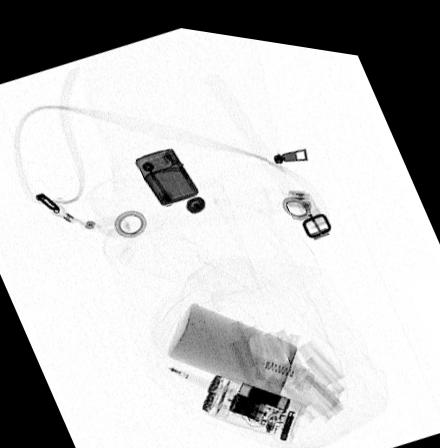Lighter: (135, 142, 198, 201)
